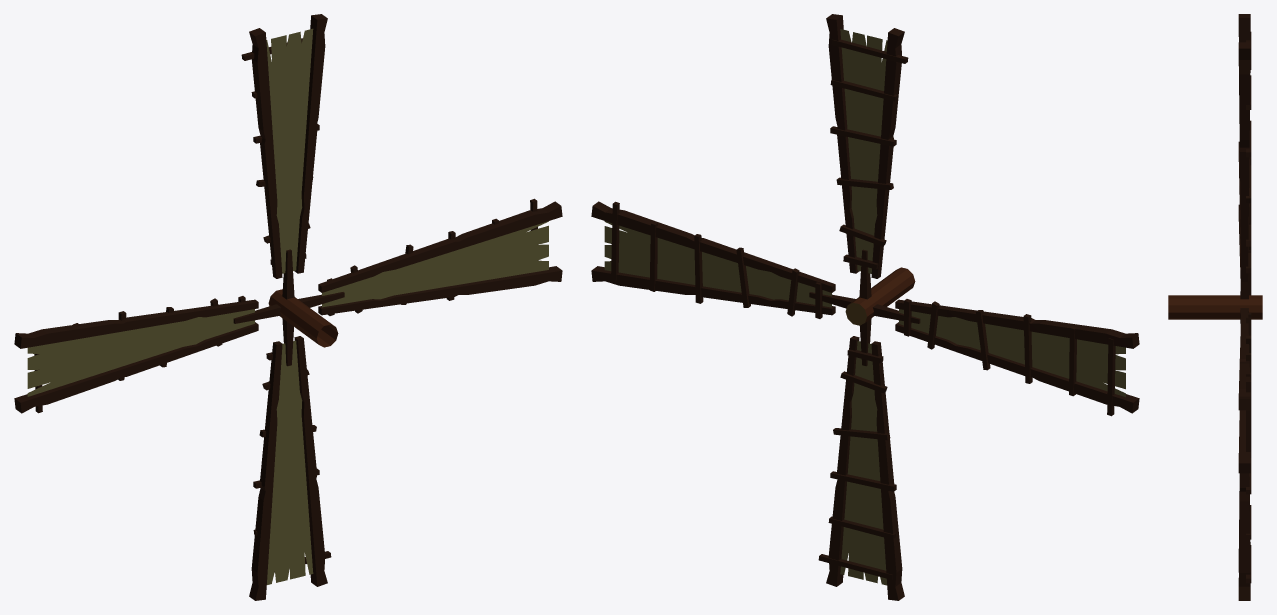
File: Mill_Blades_Cube.obj
3 views of the same model, side by side, from view 1: azimuth 30°, elevation 25°; view 2: azimuth 150°, elevation 25°; view 3: azimuth 270°, elevation 25° (orthographic). The views are drawn at different scales.
Parts seen in each view (by area): view 1: Mill_Blades_Cube.007; view 2: Mill_Blades_Cube.007; view 3: Mill_Blades_Cube.007.
Part boxes in pixels (x1,y1,x2,y2): Mill_Blades_Cube.007: (14, 14, 562, 600); Mill_Blades_Cube.007: (591, 14, 1139, 600); Mill_Blades_Cube.007: (1168, 14, 1262, 600).
Size of the model in its own units: 3.36 by 3.36 by 0.5173.
